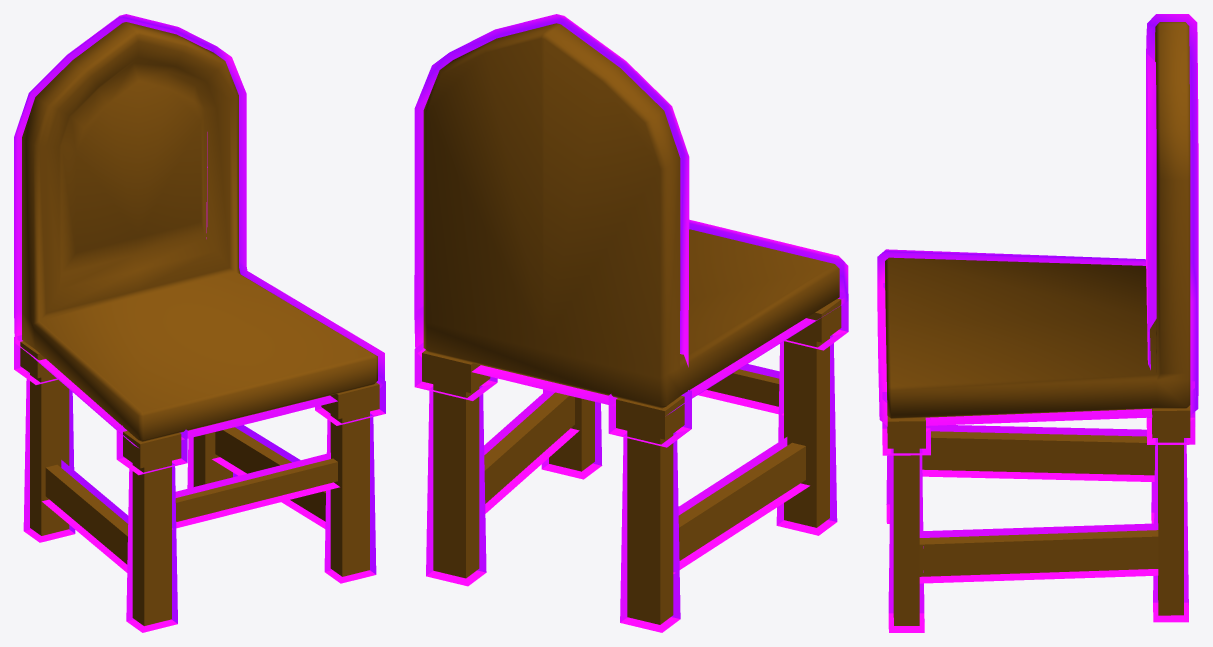
File: chair.glb
3 renders of one model, left to right at view 1: azimuth 30°, elevation 25°; view 2: azimuth 150°, elevation 25°; view 3: azimuth 270°, elevation 25°, orthographic. The views are drawn at different scales.
Parts seen in each view (by area): view 1: chair, chair.001; view 2: chair, chair.001; view 3: chair, chair.001.
Boxes of the visible parts, x1,y1,x2,y2 form: chair: (20,22,379,625); chair.001: (14,14,385,632); chair: (422,23,841,624); chair.001: (414,14,848,632); chair: (885,22,1190,625); chair.001: (877,14,1198,632).
Size of what is drawn, in the model's own units: 0.5762 by 1.07 by 0.5666.
